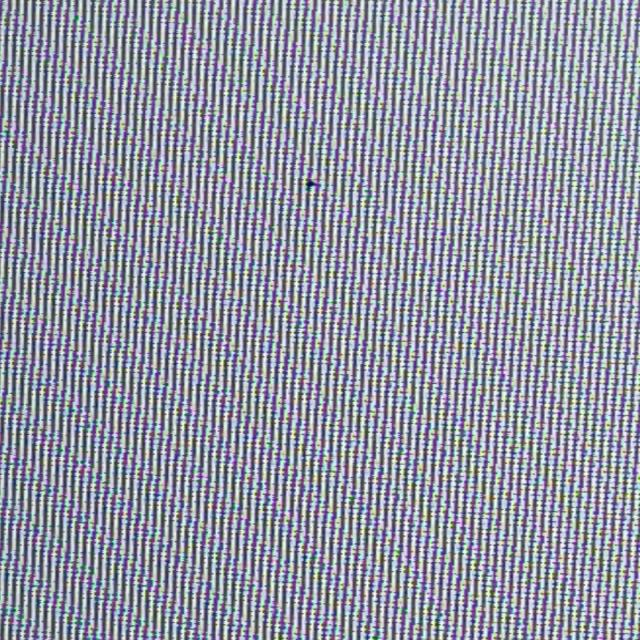Dead pixel: (306, 178, 322, 192)
